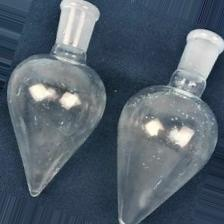Pear shaped flask: (114, 8, 221, 223), (9, 7, 108, 201)
